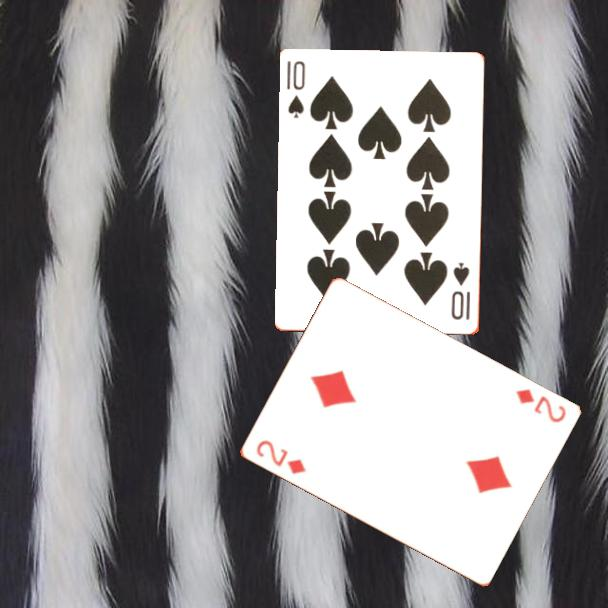d02: (512, 385, 569, 426), (252, 437, 309, 477)
s10: (448, 259, 473, 323), (284, 58, 308, 121)
